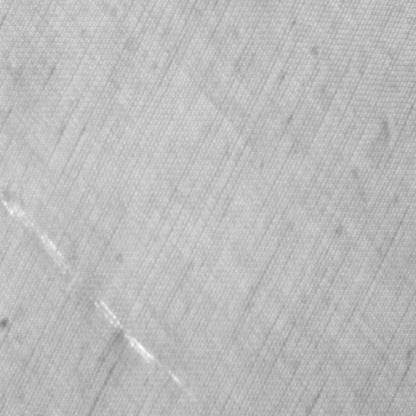thread error: (0, 180, 203, 416)
